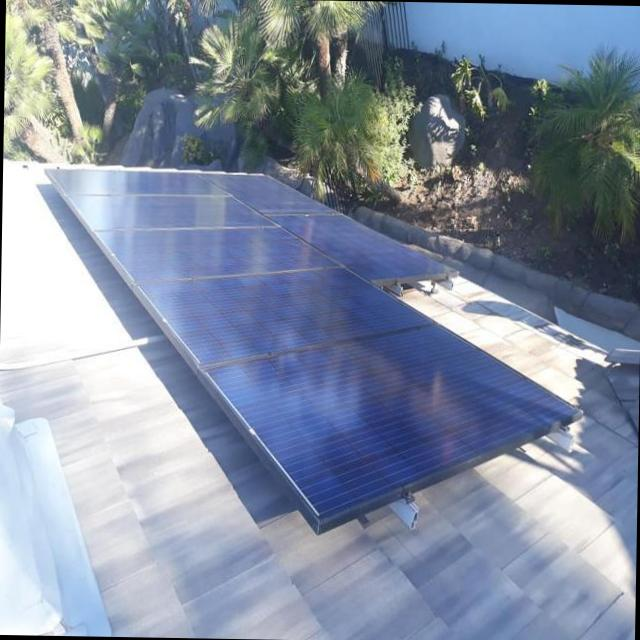no faulty: (207, 323, 581, 521), (141, 267, 426, 369), (99, 227, 337, 283), (269, 213, 458, 276), (74, 197, 274, 228), (204, 175, 331, 212), (51, 171, 224, 195)
